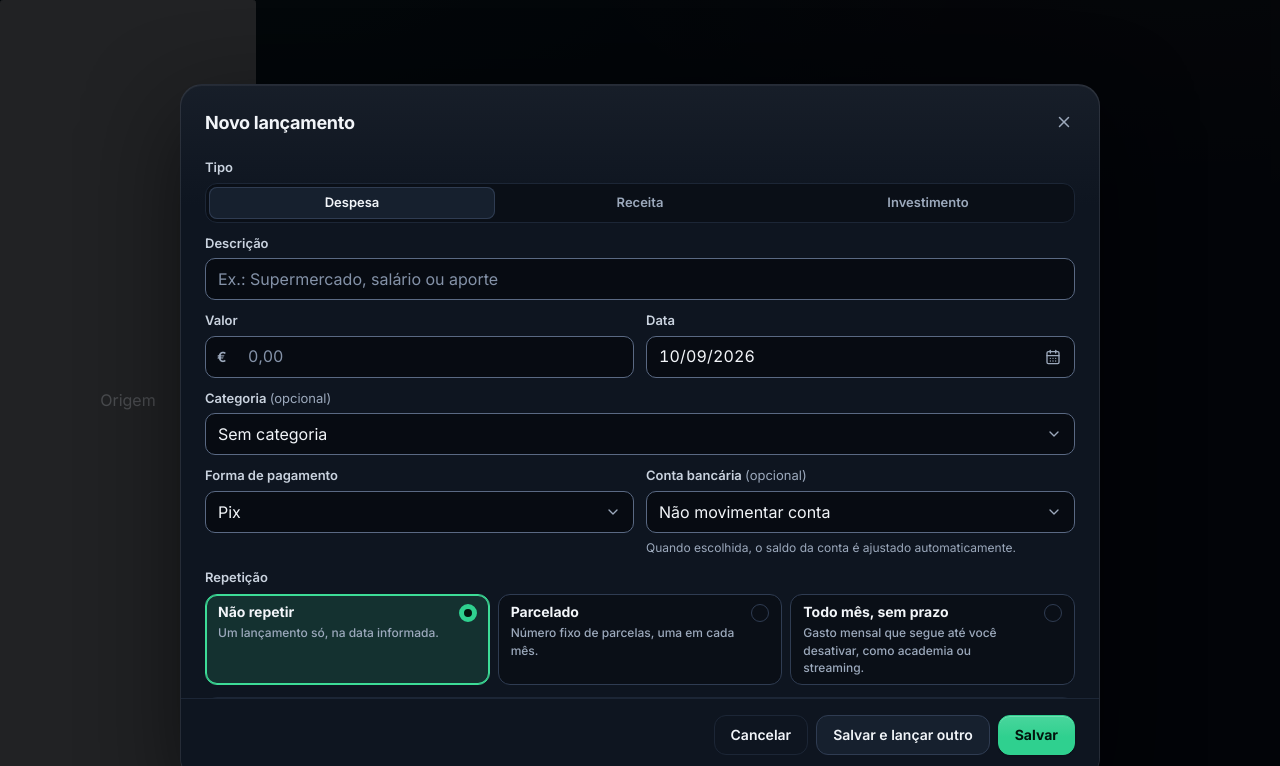
it: MEL-26 · moedas nos formulários › valida a cotação digitada
In the field labelled "Descrição": [640, 279] box [205,258,1075,300], type "Museu"
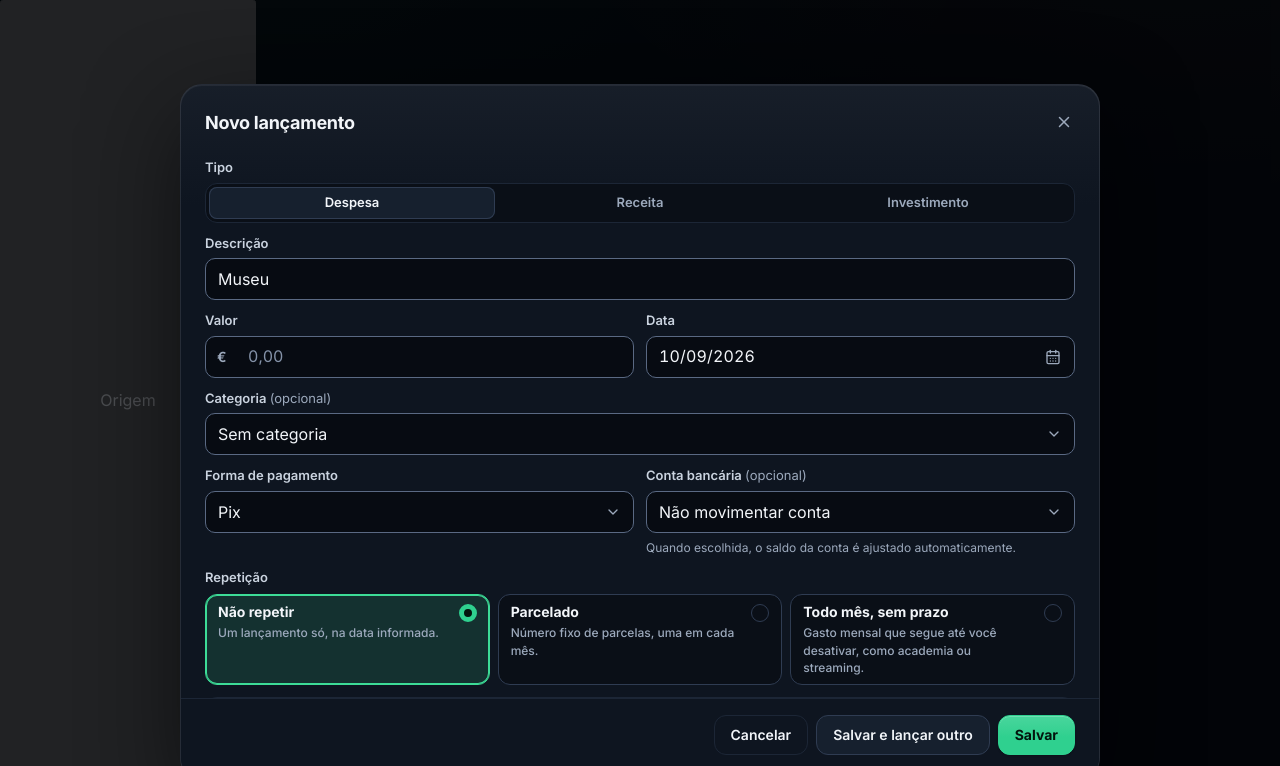
In the field labelled "Valor": [420, 357] box [205,336,634,378], type "5"
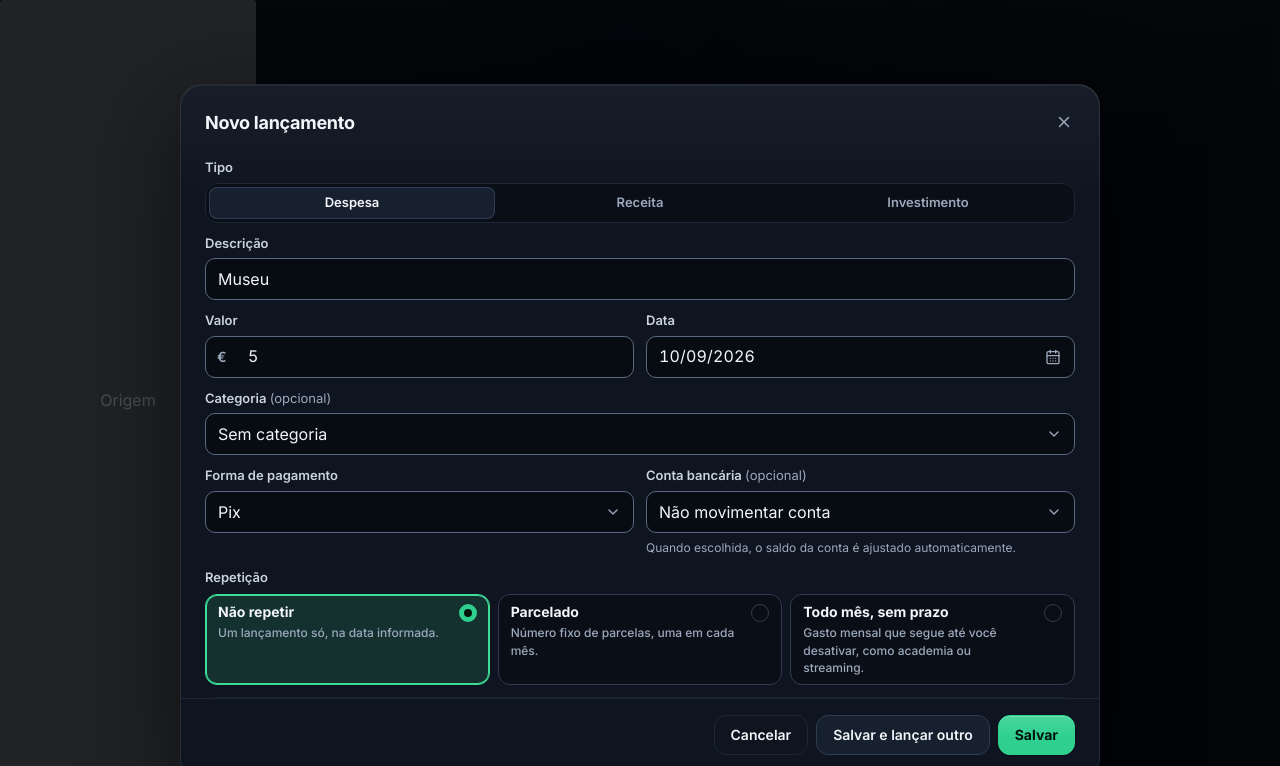
Click the button "Salvar": [1036, 735] box [998,715,1075,755]
(page scrolled)
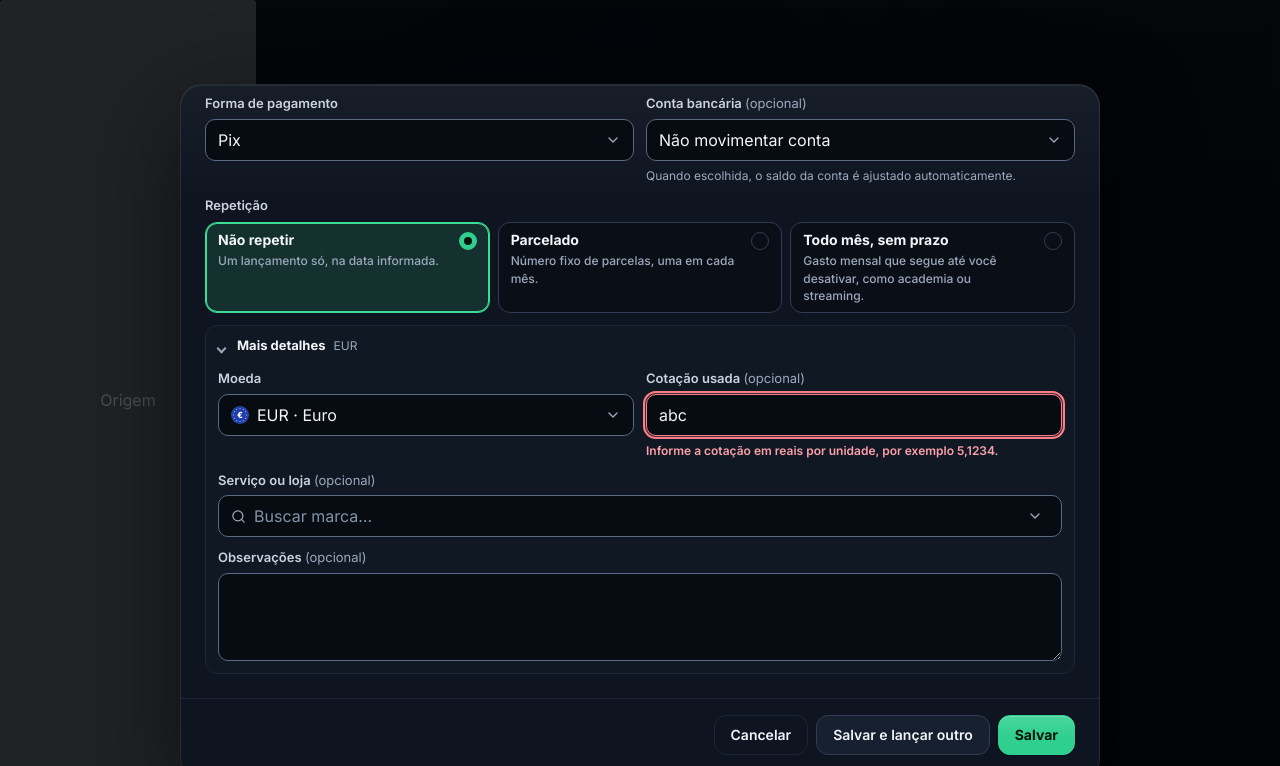
Check: the text "Informe a cotação em reais por unidade, por exemplo 5,1234." is shown, box [646,443,998,458]
